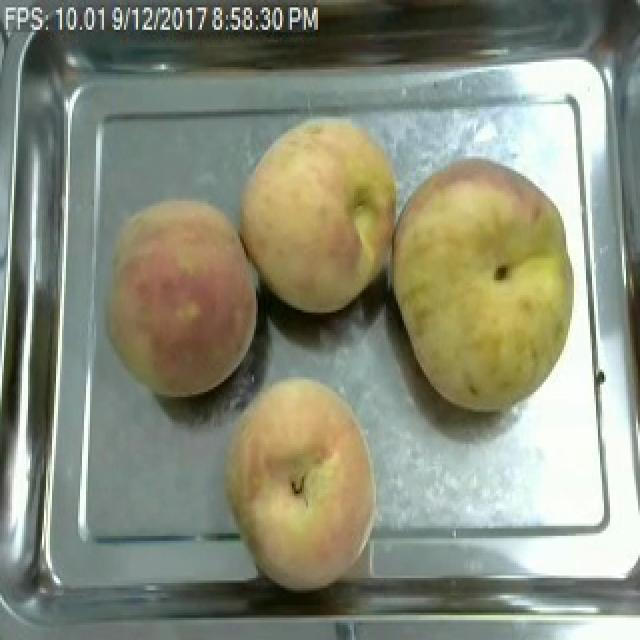Fruit: (380, 146, 596, 424), (214, 367, 390, 603), (232, 109, 412, 320), (96, 188, 268, 404)
